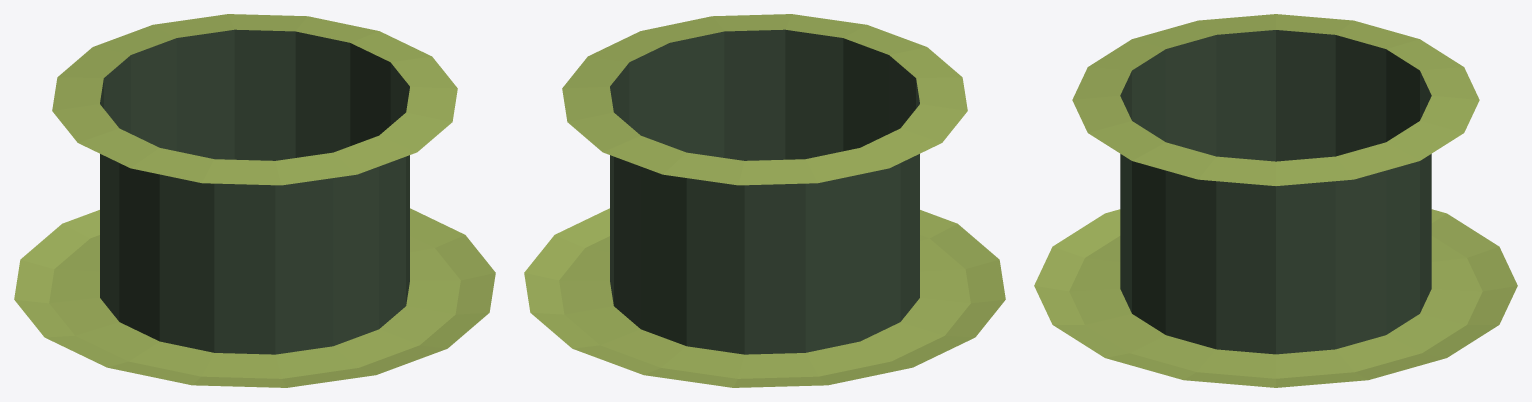
Rendered from opening.fbx.
The picture shows the model from 3 angles, left to right: view 1: azimuth 30°, elevation 25°; view 2: azimuth 150°, elevation 25°; view 3: azimuth 270°, elevation 25°; orthographic projection.
Parts seen in each view (by area): view 1: opening; view 2: opening; view 3: opening.
Boxes of the visible parts, x1,y1,x2,y2 form: opening: (14, 14, 495, 387); opening: (524, 14, 1005, 387); opening: (1034, 14, 1517, 387).
Bounding box in the file's own units: 15.53 × 15.53 × 6.93.
